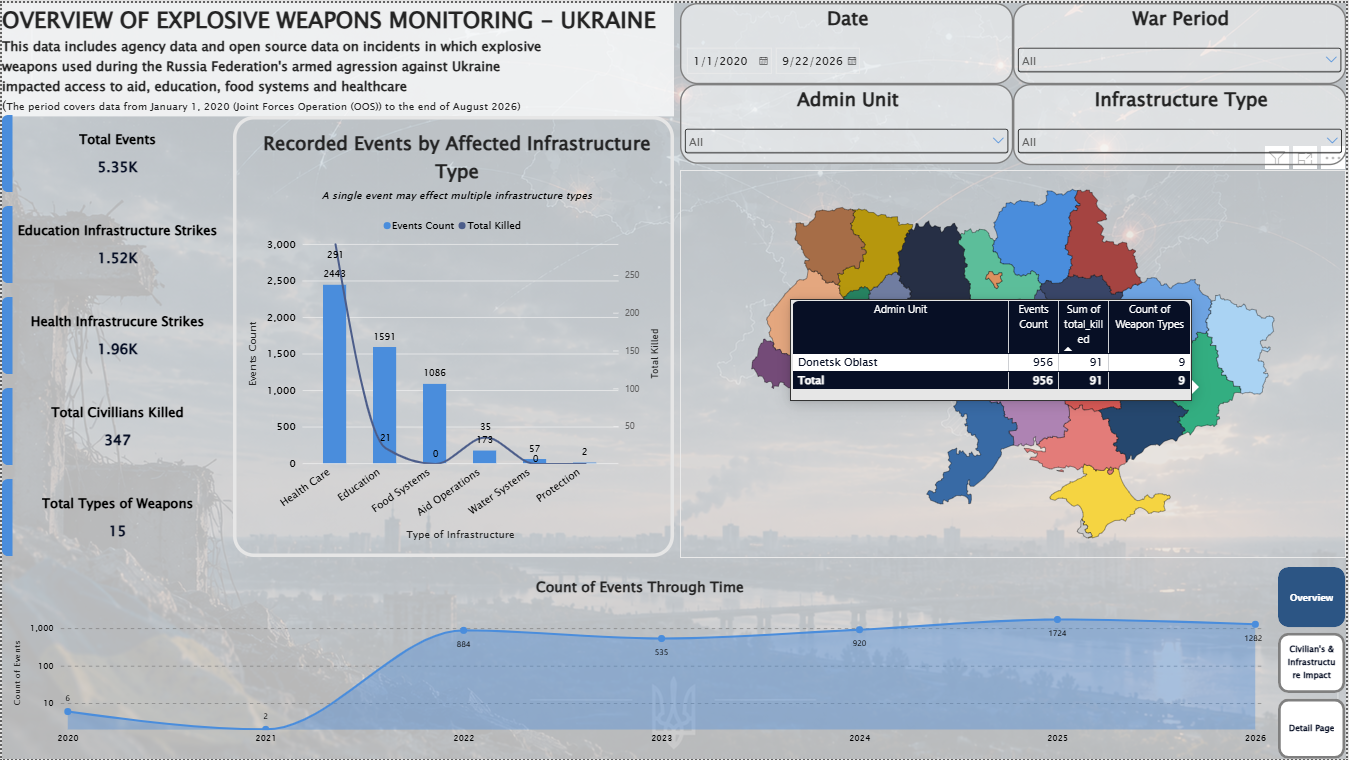

Layout of this report page (visuals, bound fields, positions):
{"tool":"powerbi","page":{"name":"Overview","canvas":[1920,1080],"ordinal":0},"visuals":[{"type":"textbox","box":[0,0,960,161.7],"z":0},{"type":"shapeMap","title":"Interactive Map","fields":{"Category":["dim_regions.map_key"],"Series":["dim_regions.admin_unit"]},"box":[968.9,238.9,951.1,553.3],"z":1000},{"type":"lineChart","title":"Count of Events Through Time","fields":{"Category":["dim_calendar.Year"],"Y":["CountNonNull(fact_events.SiND_event_id)"]},"box":[0,805,1822.5,275],"z":2000},{"type":"lineClusteredColumnComboChart","title":"Recorded Events by Affected Infrastructure Type","fields":{"Category":["fact_events.sector_affected"],"Y":["Count(fact_events.SiND_event_id)"],"Y2":["Sum(fact_events.total_killed)"]},"box":[330,161.7,630,630],"z":3000},{"type":"cardVisual","fields":{"Data":["Count(fact_events.SiND_event_id)","Sum(fact_events.education_infrastucture_effect)","Sum(fact_events.health_infrastucture_effect)","Sum(fact_events.total_killed)","Count(fact_events.launch_type)"]},"box":[0,160,330,631.7],"z":4000},{"type":"slicer","title":"Date","fields":{"Values":["dim_calendar.Date"]},"box":[968.6,0,475.7,115.7],"z":5000},{"type":"slicer","title":"Admin Unit","fields":{"Values":["dim_regions.admin_unit"]},"box":[968.6,115.7,475.7,114.3],"z":6000},{"type":"slicer","title":"War Period","fields":{"Values":["fact_events.war_period"]},"box":[1444.3,0,475.7,115.7],"z":7000},{"type":"slicer","title":"Infrastructure Type","fields":{"Values":["fact_events.sector_affected"]},"box":[1444.3,115.7,477.1,115.7],"z":8000},{"type":"pageNavigator","box":[1823.3,805,96.7,275],"z":9002}]}

Visuals, with their boxes in screenshot pixels (x1, y1, x2, y2), scaled from the page's 1920x1080 canvas onto the 1349x760 screenshot:
textbox: bbox=[0, 0, 674, 114]
"Interactive Map" shapeMap: bbox=[681, 168, 1348, 557]
"Count of Events Through Time" lineChart: bbox=[0, 566, 1280, 759]
"Recorded Events by Affected Infrastructure Type" lineClusteredColumnComboChart: bbox=[232, 114, 674, 557]
cardVisual - Count(fact_events.SiND_event_id) x Sum(fact_events.education_infrastucture_effect): bbox=[0, 113, 232, 557]
"Date" slicer: bbox=[681, 0, 1015, 81]
"Admin Unit" slicer: bbox=[681, 81, 1015, 162]
"War Period" slicer: bbox=[1015, 0, 1348, 81]
"Infrastructure Type" slicer: bbox=[1015, 81, 1348, 163]
pageNavigator: bbox=[1281, 566, 1348, 759]
